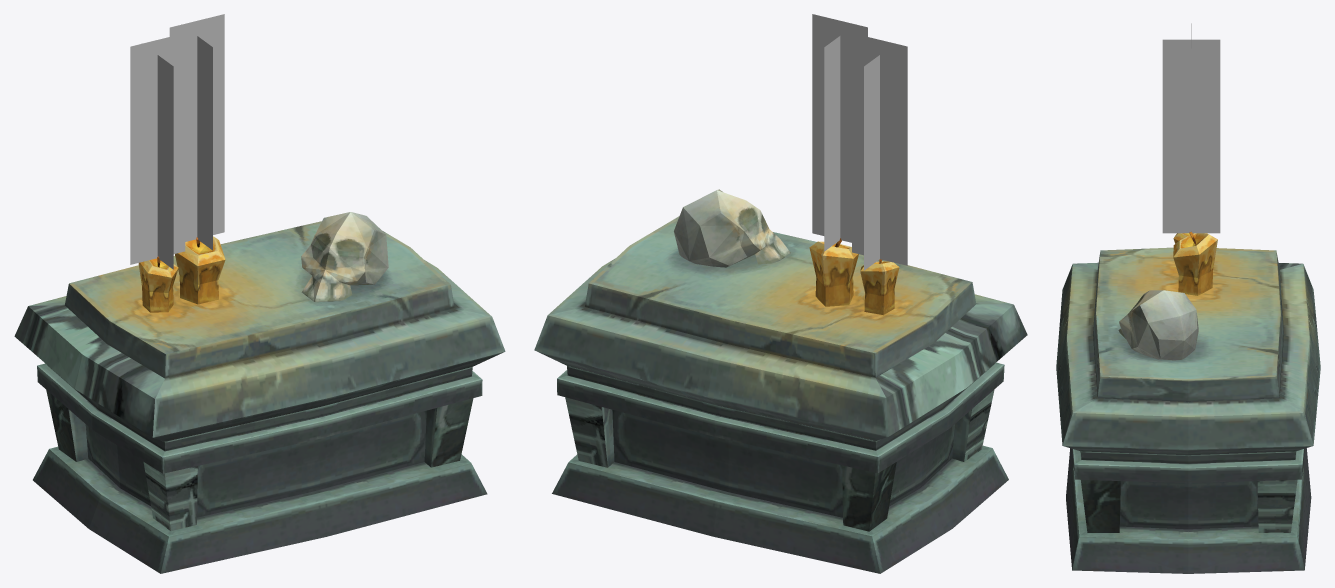
File: crypt_tomb02.fbx
3 views of the same model, side by side, from view 1: azimuth 30°, elevation 25°; view 2: azimuth 150°, elevation 25°; view 3: azimuth 270°, elevation 25° (orthographic). The views are drawn at different scales.
Visible parts, largest first — view 1: obj2.002; view 2: obj2.002; view 3: obj2.002.
Boxes of the visible parts, x1,y1,x2,y2 form: obj2.002: (14, 14, 505, 573); obj2.002: (534, 14, 1027, 573); obj2.002: (1056, 23, 1320, 573).
Size of the model in its own units: 1.97 by 2.44 by 1.34.
